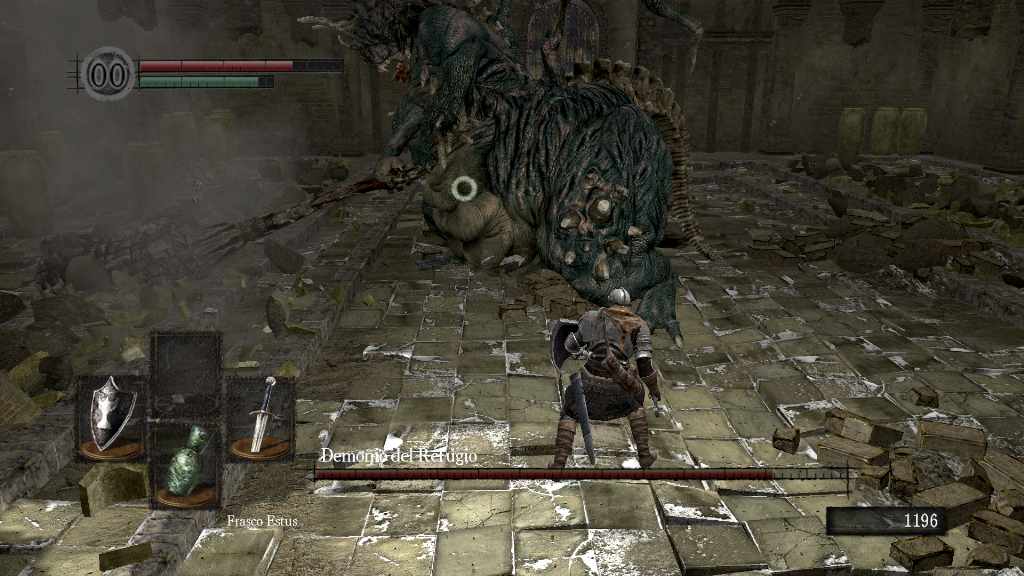asylumDemon: (295, 3, 708, 352)
bossHP: (314, 469, 847, 479)
health: (138, 58, 343, 71)
humanity: (80, 45, 136, 102)
player: (546, 286, 662, 482)
souls: (825, 506, 945, 536)
stamina: (138, 74, 274, 88)
